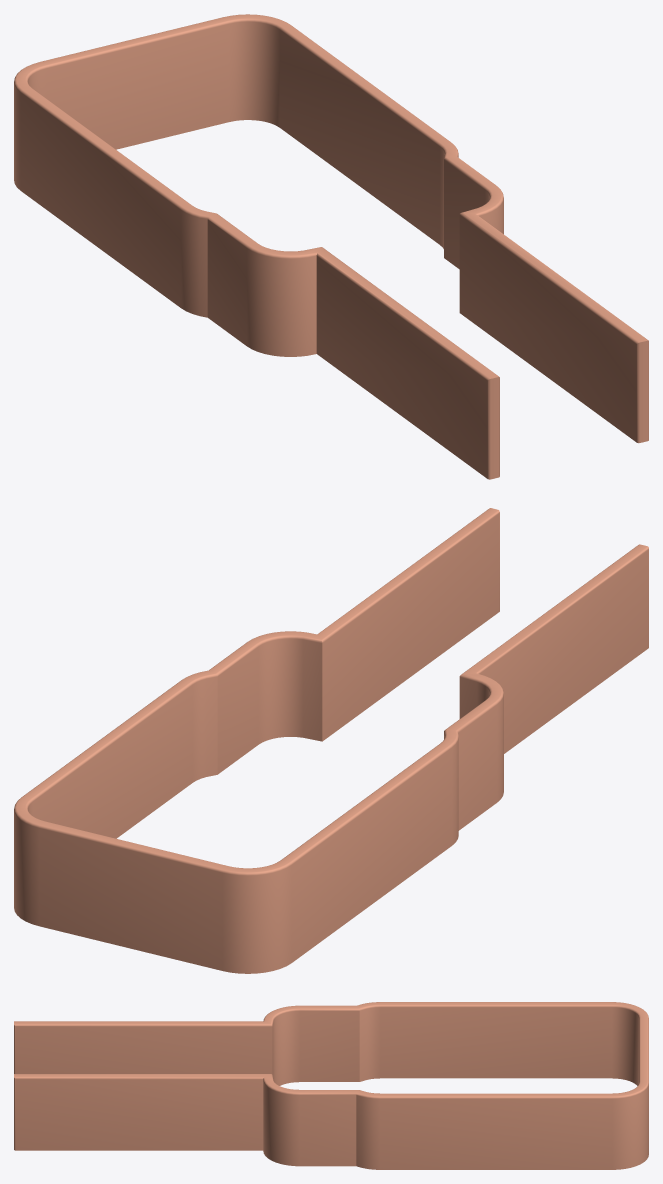
The model's file is map_3.fbx.
The picture shows the model from 3 angles, top to bottom: view 1: azimuth 30°, elevation 25°; view 2: azimuth 150°, elevation 25°; view 3: azimuth 270°, elevation 25°; orthographic projection. The views are drawn at different scales.
Parts seen in each view (by area): view 1: map_3; view 2: map_3; view 3: map_3.
Boxes of the visible parts, x1=… form: map_3: x1=14, y1=14, x2=648, y2=479; map_3: x1=14, y1=508, x2=648, y2=973; map_3: x1=14, y1=1002, x2=648, y2=1169.
Size of the model in its own units: 1810 by 642 by 5074.
